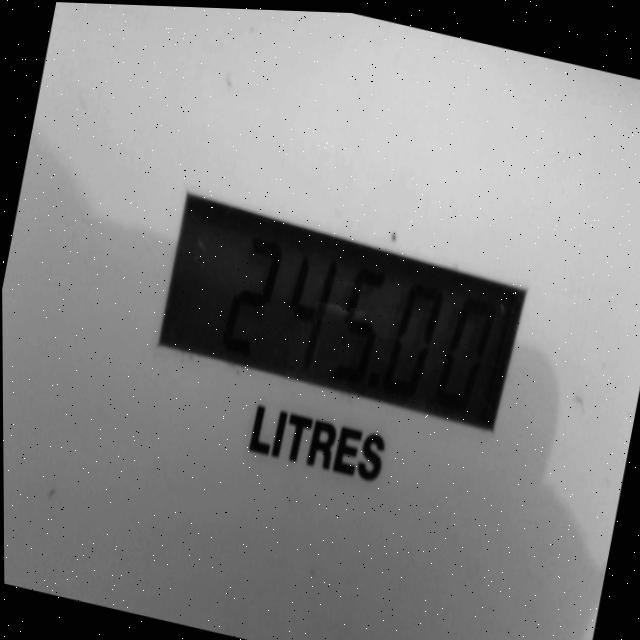.: (368, 357, 386, 389)
0: (380, 273, 449, 404), (435, 291, 501, 418)
2: (218, 228, 279, 352)
4: (276, 246, 341, 380)
5: (336, 264, 387, 384)
